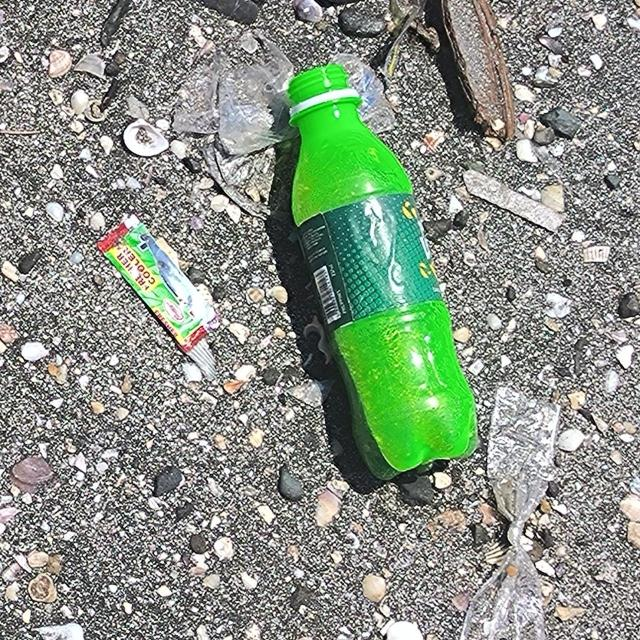plastic_waste: (289, 66, 482, 480), (94, 212, 222, 354)
